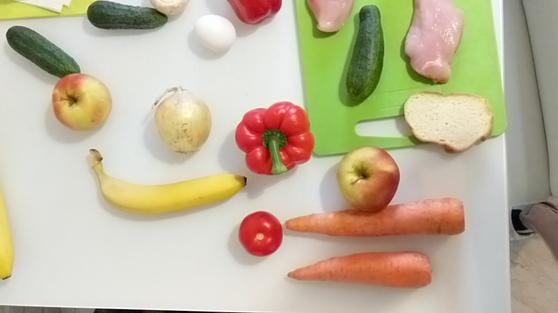apple: (339, 142, 402, 209), (50, 72, 114, 135)
banana: (84, 149, 250, 215)
carrot: (284, 195, 466, 248), (284, 249, 436, 294)
chicken_fillet: (403, 1, 468, 85), (307, 1, 357, 35)
cucumber: (340, 6, 388, 103), (4, 26, 86, 77), (81, 1, 172, 31)
egg: (190, 13, 240, 55)
onion: (150, 87, 215, 156)
pepper: (236, 101, 320, 177)
tomato: (240, 203, 284, 259)
white_bread: (399, 87, 499, 152)
